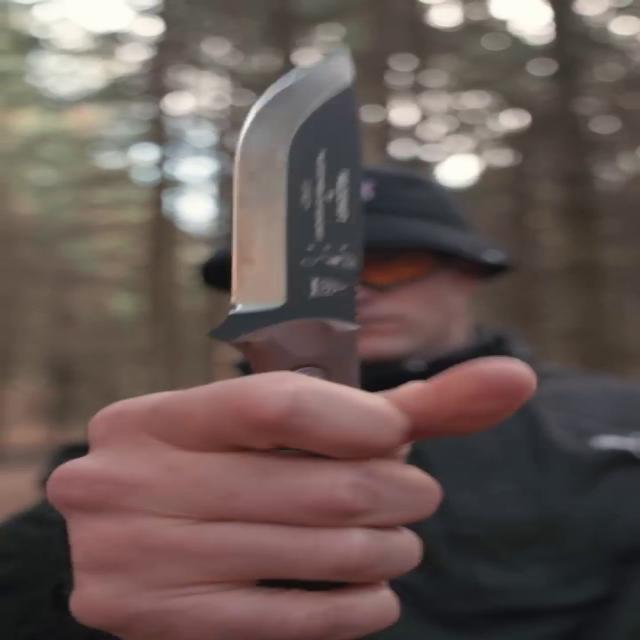Knife: (133, 42, 524, 612)
